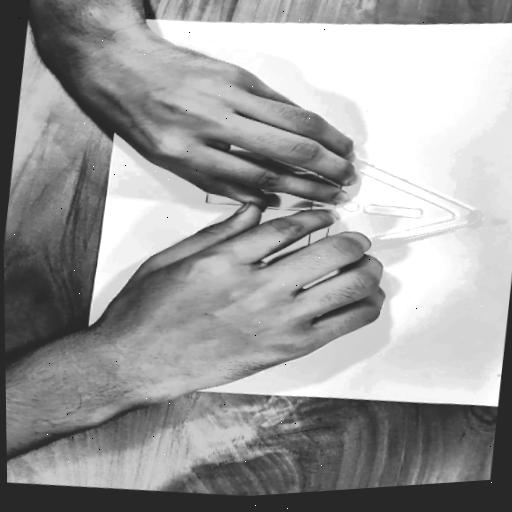bottom_left: (111, 13, 131, 25)
bottom_right: (80, 377, 95, 388)
signboard: (175, 137, 496, 277)
